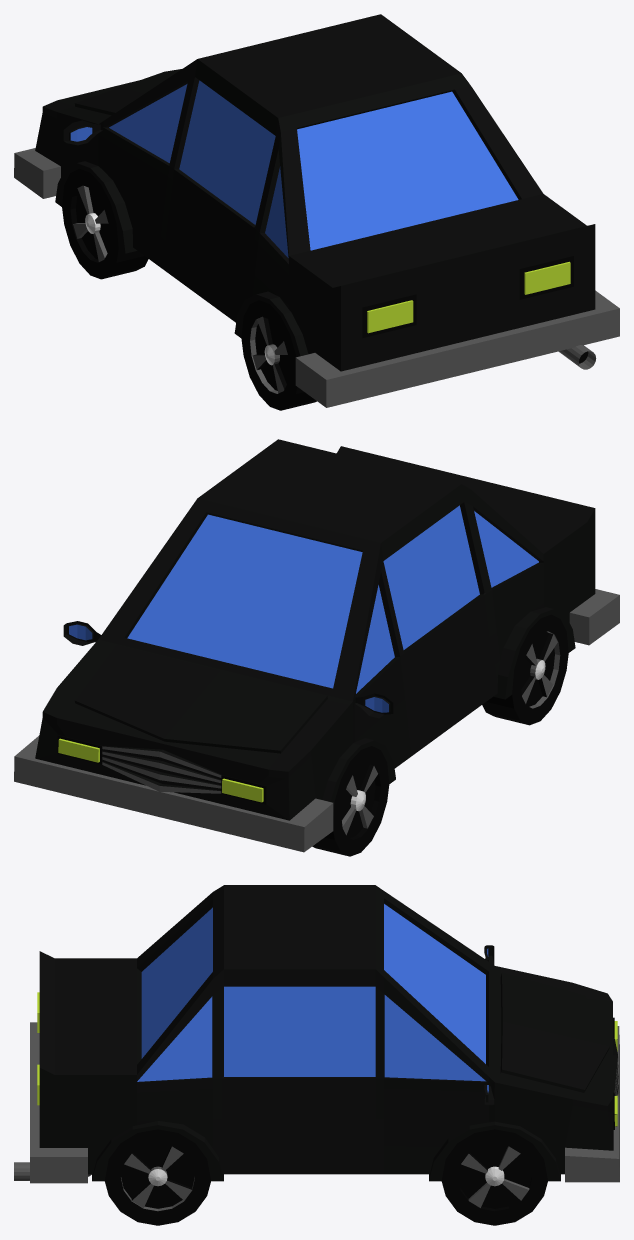
File: Car.glb
The picture shows the model from 3 angles, top to bottom: view 1: azimuth 30°, elevation 25°; view 2: azimuth 150°, elevation 25°; view 3: azimuth 270°, elevation 25°; orthographic projection. The views are drawn at different scales.
Visible parts, largest first — view 1: Car4; view 2: Car4; view 3: Car4.
Part boxes in pixels (<box>): Car4: <box>14,14,619,410</box>; Car4: <box>14,439,619,856</box>; Car4: <box>14,885,619,1225</box>.
Bounding box in the file's own units: 0.7311 × 0.5396 × 1.25.
